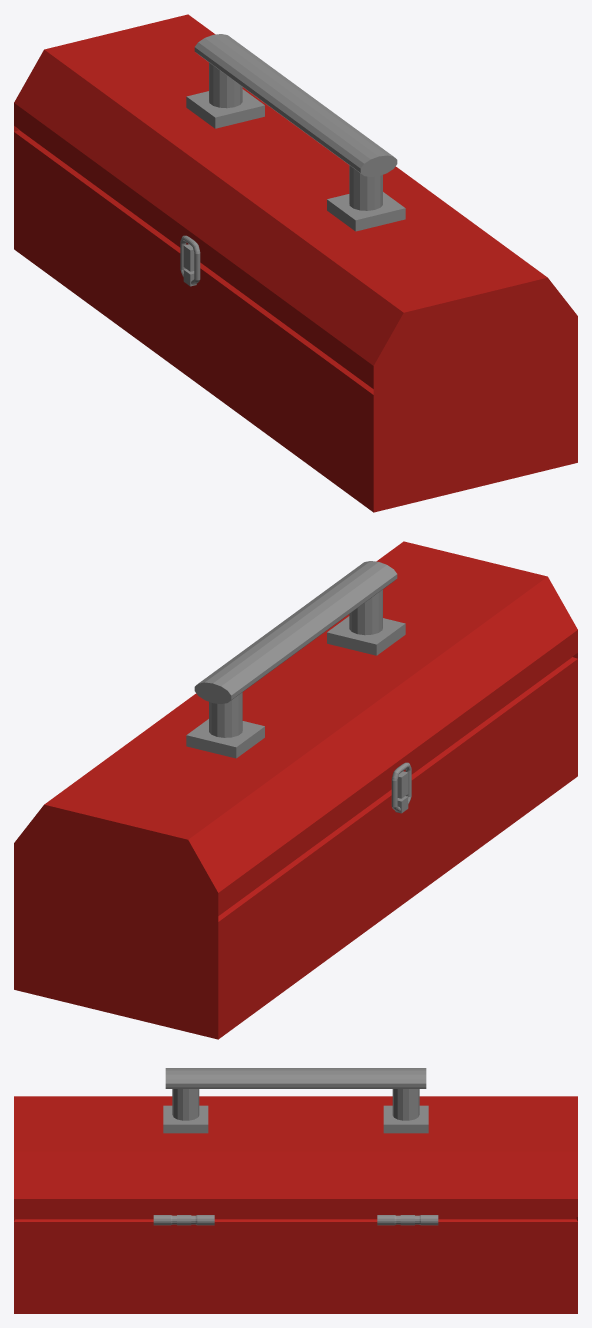
The model's file is toolbox.fbx.
3 views of the same model, one above another, from view 1: azimuth 30°, elevation 25°; view 2: azimuth 150°, elevation 25°; view 3: azimuth 270°, elevation 25° (orthographic). The views are drawn at different scales.
Parts seen in each view (by area): view 1: toolbox; view 2: toolbox; view 3: toolbox.
Boxes of the visible parts, x1,y1,x2,y2 form: toolbox: [14, 14, 577, 512]; toolbox: [14, 541, 577, 1039]; toolbox: [14, 1068, 577, 1313].
Bounding box in the file's own units: 47.75 × 54.41 × 136.
